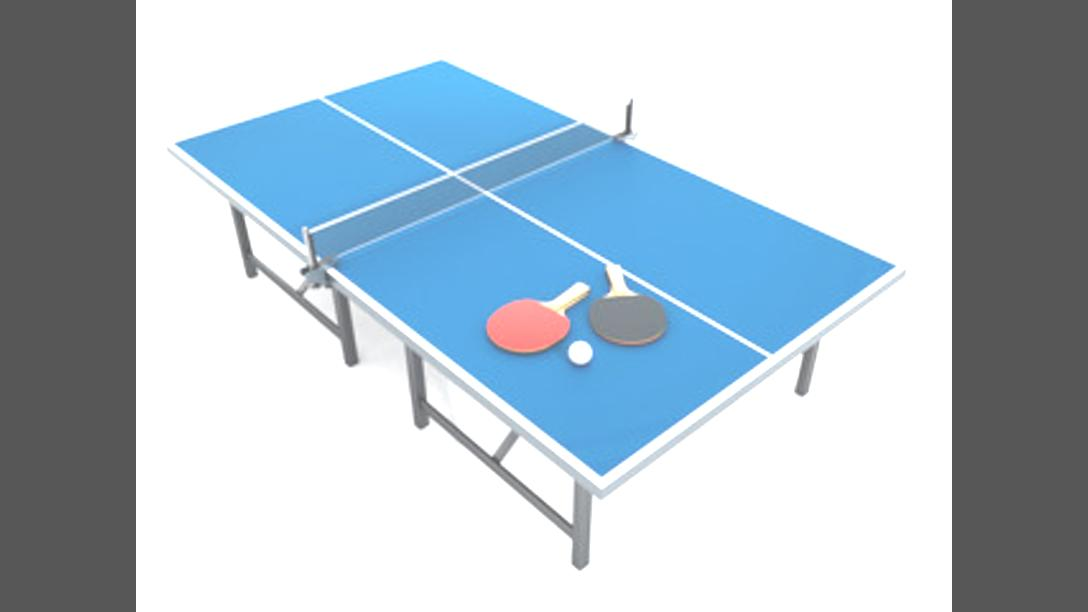Table-Tennis-Ball: (571, 341, 591, 362)
